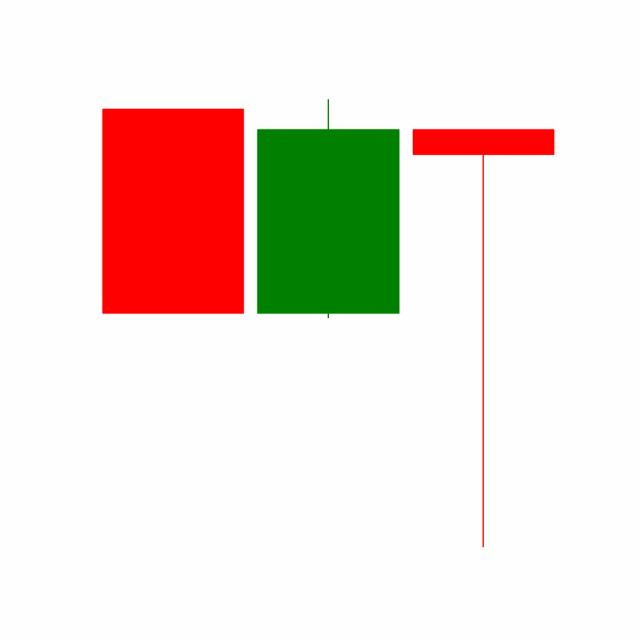Hanging Man: (405, 124, 561, 552)
